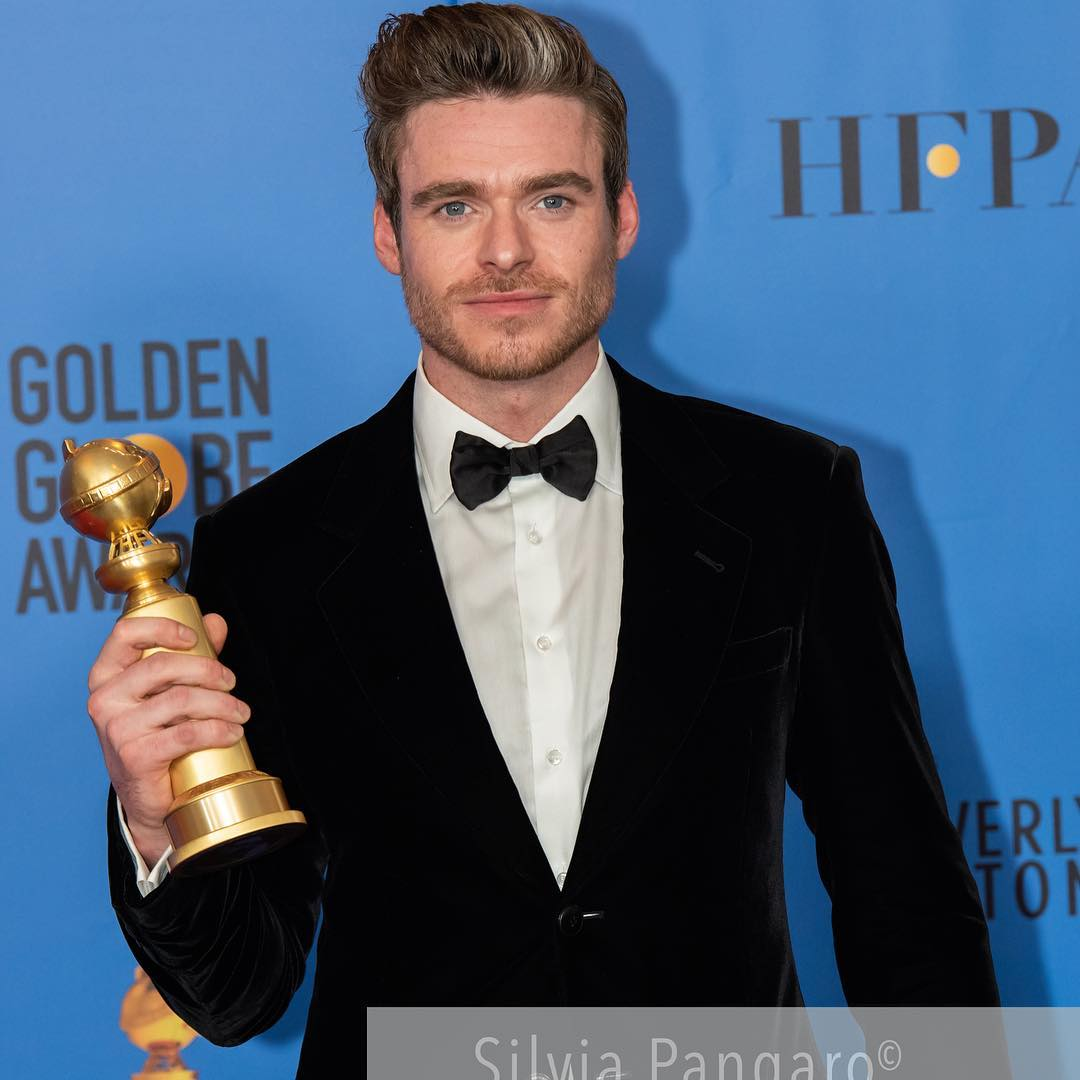hand: (102, 617, 237, 823)
